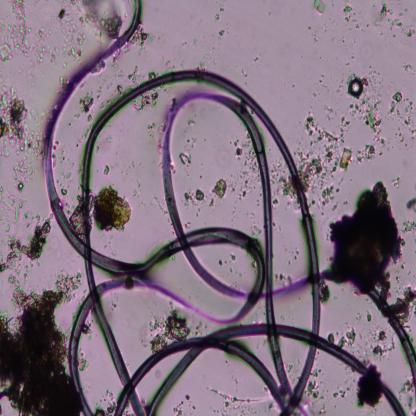Background material: (0, 274, 80, 414), (331, 181, 400, 280), (301, 111, 355, 195), (0, 216, 53, 280), (0, 87, 44, 160), (0, 1, 33, 65), (200, 376, 255, 414), (93, 188, 133, 234), (146, 309, 188, 348), (60, 19, 93, 62), (1, 179, 28, 224), (354, 96, 383, 135), (388, 2, 416, 41), (32, 28, 59, 66), (397, 101, 416, 151), (393, 284, 416, 324), (355, 377, 382, 407), (364, 62, 385, 96), (11, 161, 34, 190), (100, 12, 122, 39), (402, 196, 416, 238), (172, 392, 196, 416), (122, 64, 148, 86), (307, 369, 324, 402), (69, 198, 84, 235), (312, 68, 328, 99), (301, 17, 319, 44), (348, 74, 368, 98), (136, 92, 160, 112), (278, 172, 295, 200), (135, 25, 153, 50), (209, 179, 230, 200), (356, 142, 376, 164), (236, 167, 250, 197), (57, 160, 74, 184), (184, 188, 206, 206), (361, 34, 376, 59), (373, 328, 387, 354), (144, 114, 159, 138), (389, 90, 404, 112), (339, 329, 356, 348), (400, 57, 416, 77), (209, 4, 226, 20), (273, 270, 289, 286), (80, 96, 95, 113), (375, 3, 386, 26), (342, 4, 354, 23), (178, 150, 192, 166), (313, 0, 327, 16), (57, 6, 70, 23), (320, 280, 330, 302), (234, 138, 244, 158), (217, 27, 232, 40), (331, 387, 347, 399), (220, 256, 238, 266), (113, 85, 125, 98), (250, 51, 260, 64), (102, 163, 109, 176), (60, 187, 69, 197), (274, 194, 279, 209), (328, 331, 334, 342), (366, 312, 372, 322)
Microfibre: (43, 0, 416, 414)
